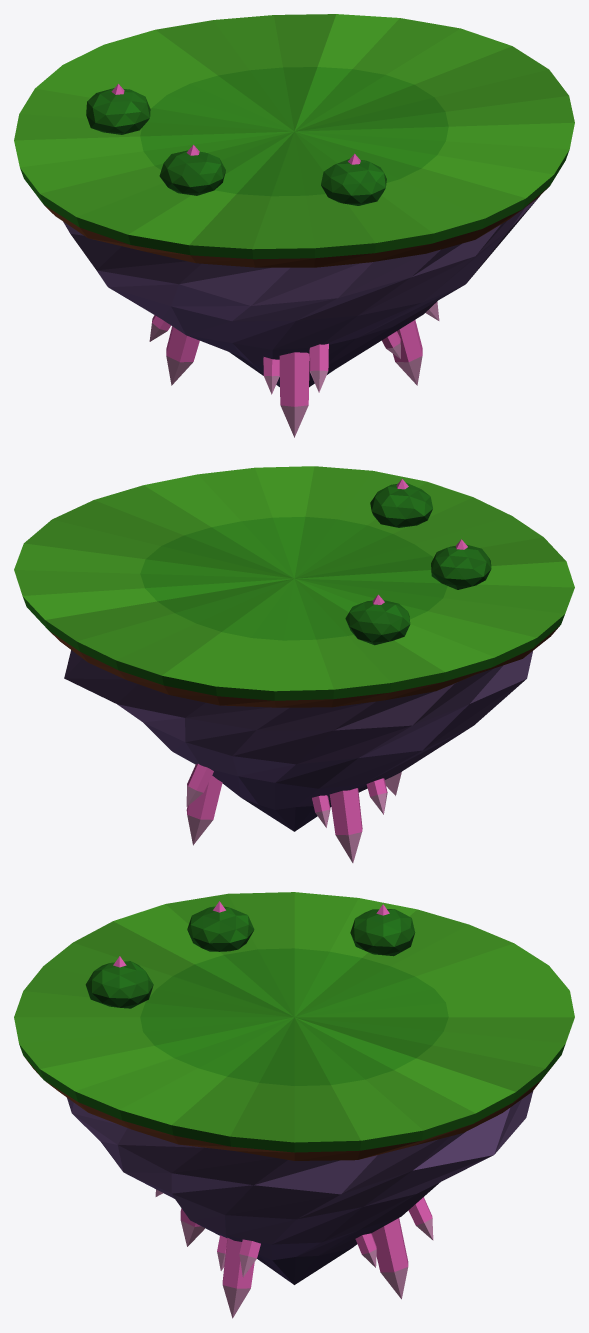
Rendered from Epilog_Insel.fbx.
3 renders of one model, top to bottom at view 1: azimuth 30°, elevation 25°; view 2: azimuth 150°, elevation 25°; view 3: azimuth 270°, elevation 25°, orthographic. The views are drawn at different scales.
Parts seen in each view (by area): view 1: Epilog_Insel_Wiese, Epilog_Insel_Fels, Epilog_Insel_Kristall, Epilog_Insel_Busch3, Epilog_Insel_Busch1, Epilog_Insel_Busch2; view 2: Epilog_Insel_Wiese, Epilog_Insel_Fels, Epilog_Insel_Kristall, Epilog_Insel_Busch3, Epilog_Insel_Busch1, Epilog_Insel_Busch2; view 3: Epilog_Insel_Wiese, Epilog_Insel_Fels, Epilog_Insel_Kristall, Epilog_Insel_Busch1, Epilog_Insel_Busch3, Epilog_Insel_Busch2.
Part boxes in pixels (x1=…): Epilog_Insel_Wiese: x1=14, y1=14, x2=574, y2=267; Epilog_Insel_Fels: x1=63, y1=195, x2=540, y2=387; Epilog_Insel_Kristall: x1=149, y1=302, x2=439, y2=437; Epilog_Insel_Busch3: x1=86, y1=84, x2=150, y2=134; Epilog_Insel_Busch1: x1=321, y1=153, x2=386, y2=205; Epilog_Insel_Busch2: x1=159, y1=145, x2=225, y2=195; Epilog_Insel_Wiese: x1=14, y1=466, x2=574, y2=707; Epilog_Insel_Fels: x1=64, y1=650, x2=532, y2=831; Epilog_Insel_Kristall: x1=186, y1=763, x2=401, y2=862; Epilog_Insel_Busch3: x1=345, y1=594, x2=410, y2=645; Epilog_Insel_Busch1: x1=370, y1=479, x2=432, y2=527; Epilog_Insel_Busch2: x1=431, y1=539, x2=491, y2=589; Epilog_Insel_Wiese: x1=14, y1=892, x2=574, y2=1160; Epilog_Insel_Fels: x1=67, y1=1091, x2=533, y2=1284; Epilog_Insel_Kristall: x1=155, y1=1189, x2=433, y2=1318; Epilog_Insel_Busch1: x1=85, y1=956, x2=153, y2=1008; Epilog_Insel_Busch3: x1=350, y1=904, x2=415, y2=956; Epilog_Insel_Busch2: x1=187, y1=901, x2=254, y2=951.
Bounding box in the file's own units: 2486 × 1464 × 2353.
